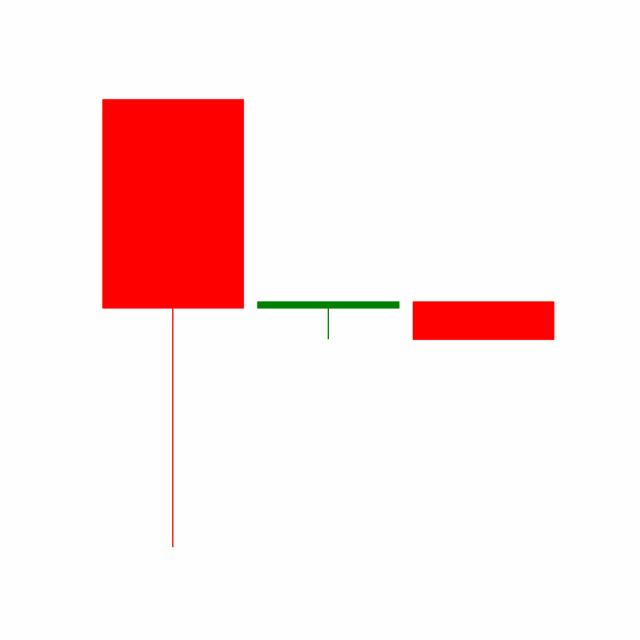Dragonfly Doji: (249, 300, 406, 340)
